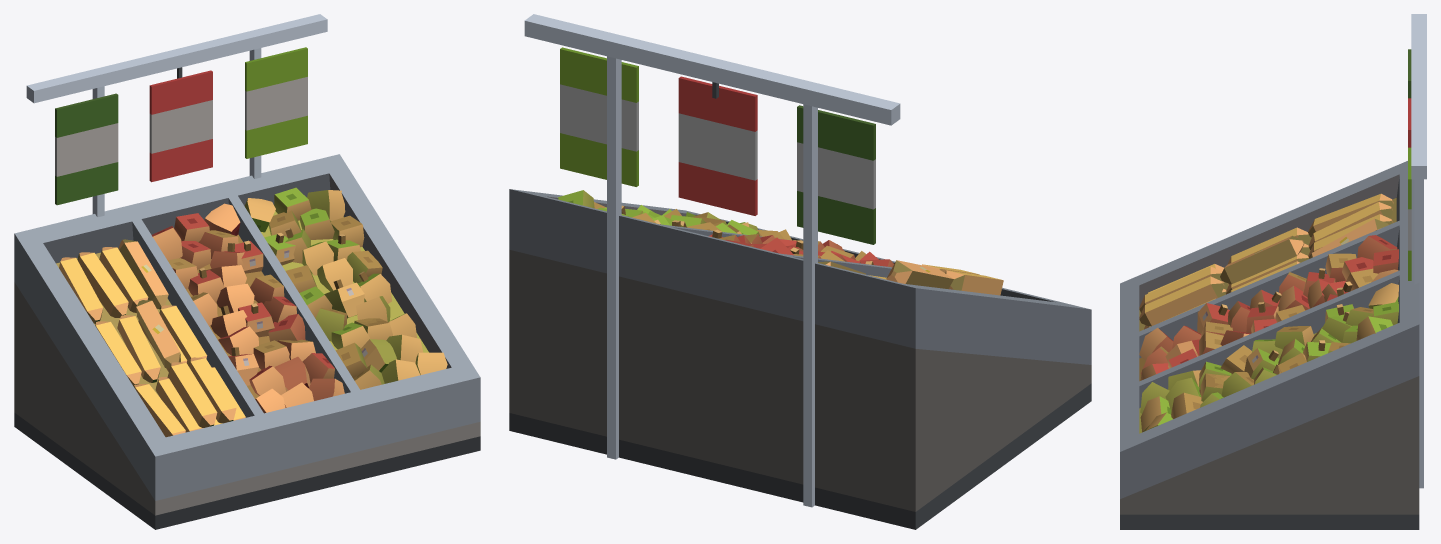
The model's file is rottenfruit1.fbx.
3 views of the same model, side by side, from view 1: azimuth 30°, elevation 25°; view 2: azimuth 150°, elevation 25°; view 3: azimuth 270°, elevation 25° (orthographic). The views are drawn at different scales.
Visible parts, largest first — view 1: SI_Prop_ProduceSection_01; view 2: SI_Prop_ProduceSection_01; view 3: SI_Prop_ProduceSection_01.
Part boxes in pixels (left/top/right/bottom): SI_Prop_ProduceSection_01: left=14, top=14, right=480, bottom=529; SI_Prop_ProduceSection_01: left=509, top=14, right=1091, bottom=529; SI_Prop_ProduceSection_01: left=1120, top=14, right=1426, bottom=529.
Bounding box in the file's own units: 4 × 3.93 × 3.08.
